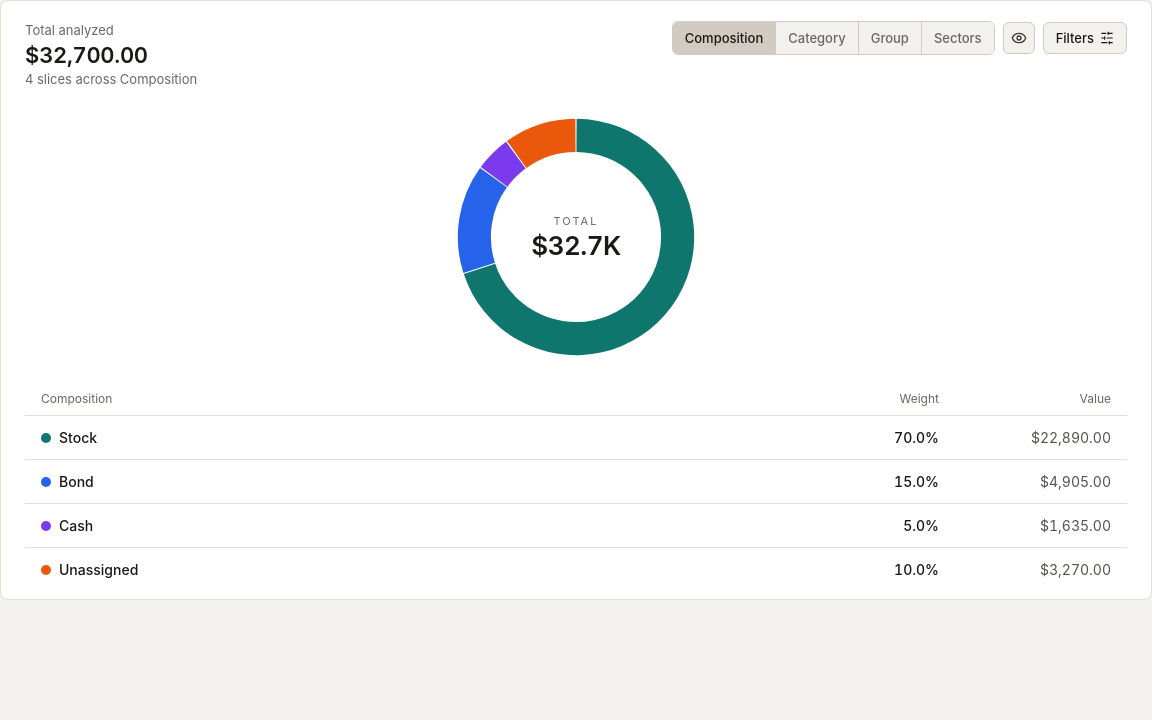
Test case: PortfolioCard › omits the owner chip when owners are hidden
The width and height of the screenshot is (1152, 720).
Click the button "Filters". click: (1085,38)
box: [1043,22,1127,54]
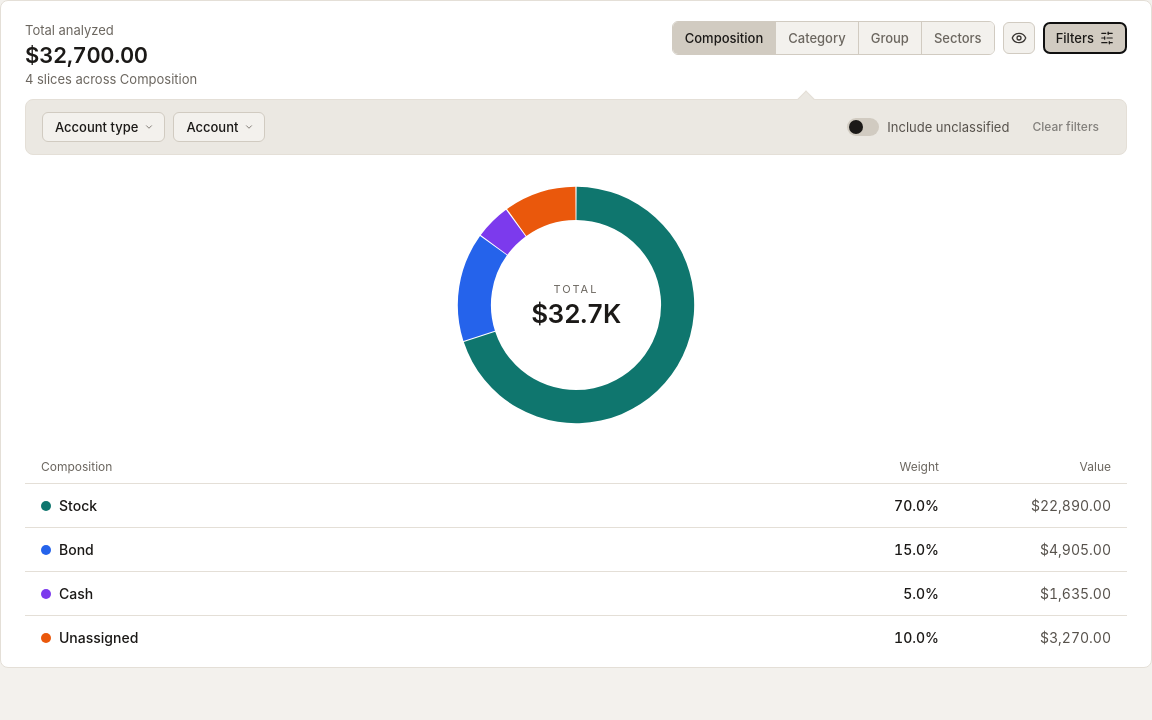
Check: the button "Account type" is shown, box [42,112,165,142]
